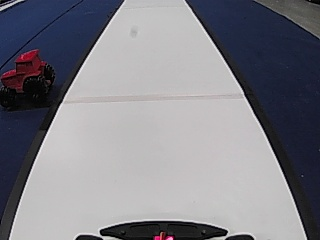tractor: (0, 47, 55, 111)
